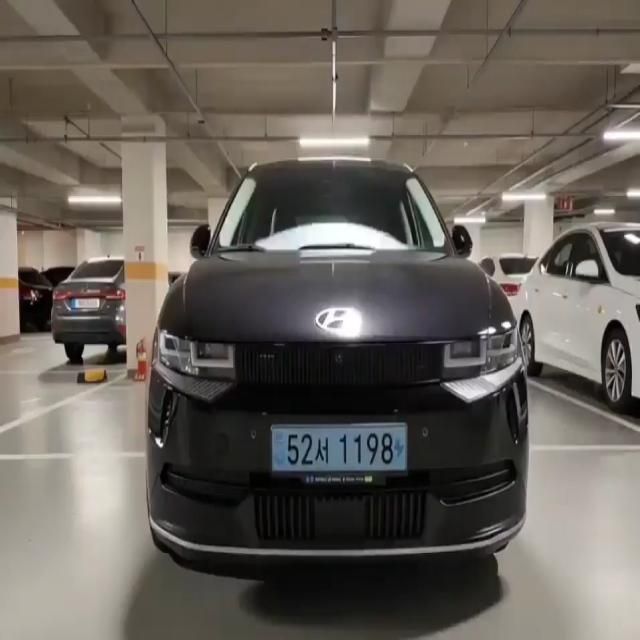car: (272, 423, 407, 473)
carev: (273, 429, 287, 473), (393, 431, 407, 469)
